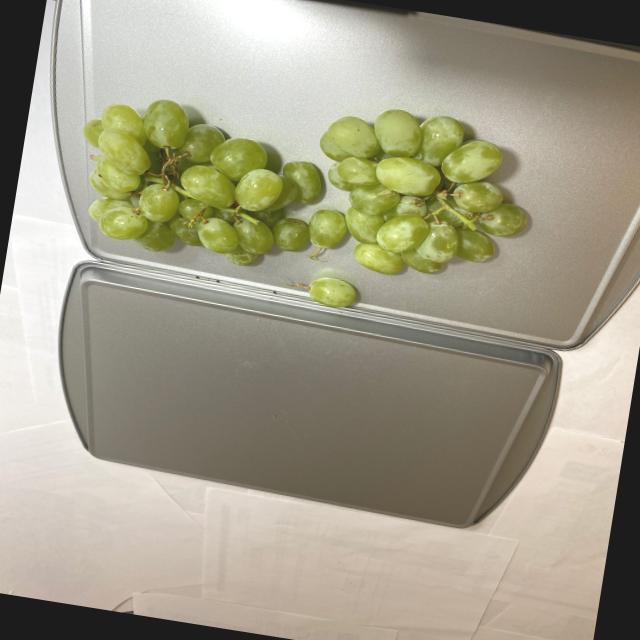grapes: (66, 56, 546, 331)
